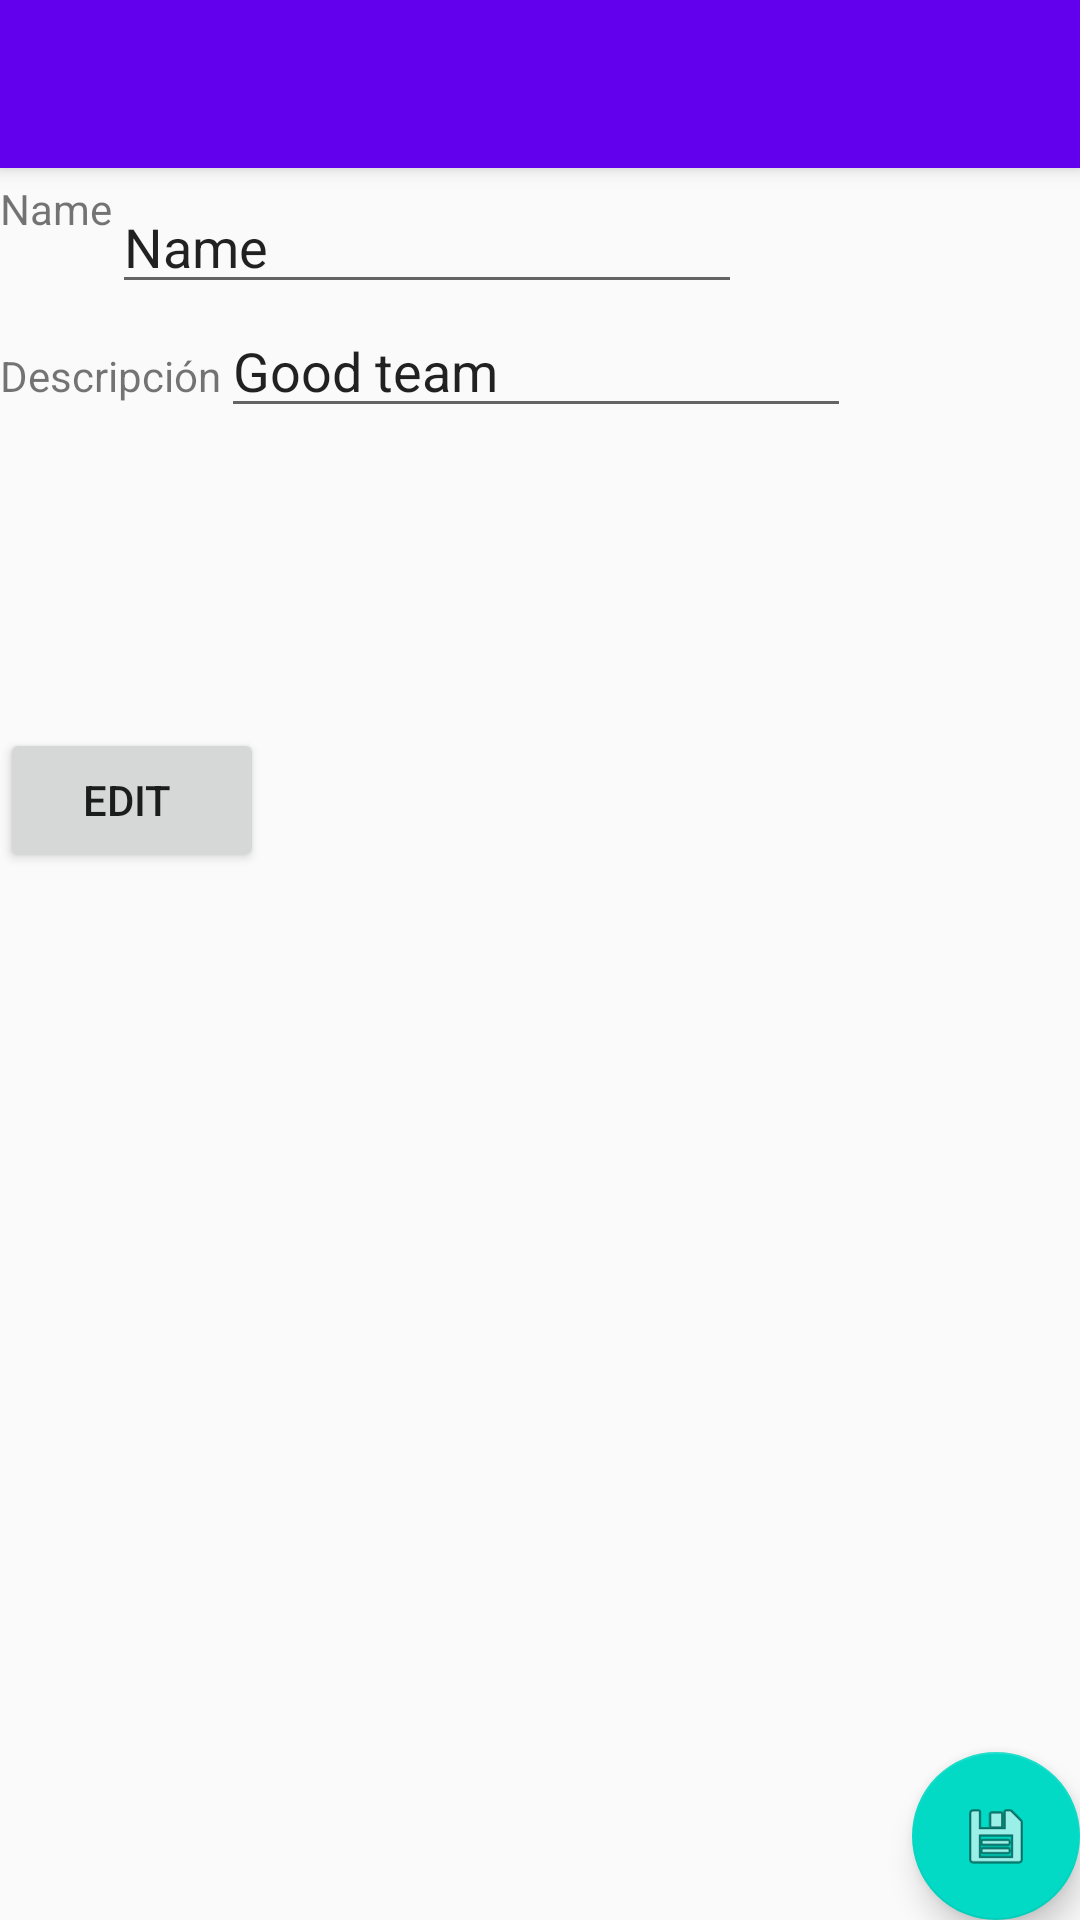

Screen size 1080px x 1920px. Icon name, then its center in pixels as point (x, y):
save: point (996, 1836)
